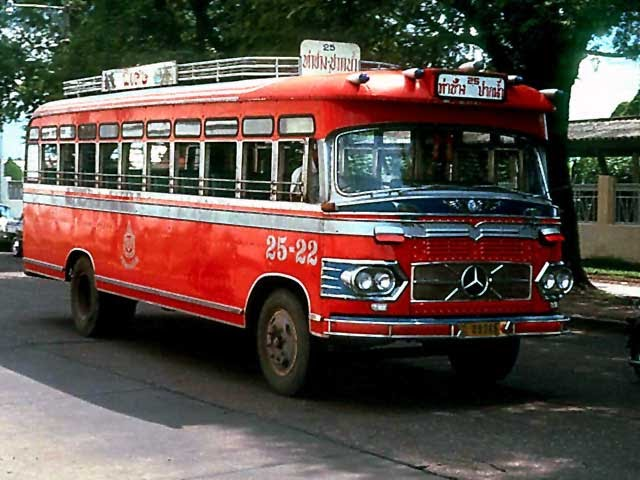bus: (21, 57, 575, 397)
